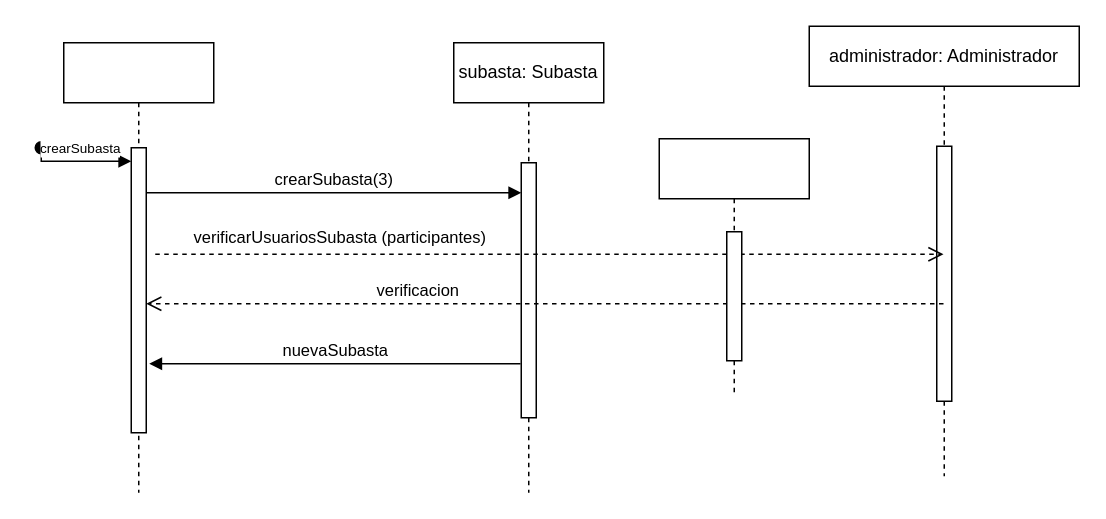
This 1106x519 diagram has some shape labels left out. Here are the shapes that lost their labels. From the top down, the box of each, then its label:
(62, 41, 214, 493): galeria: Galeria
(658, 137, 809, 397): participantes: Comprador
